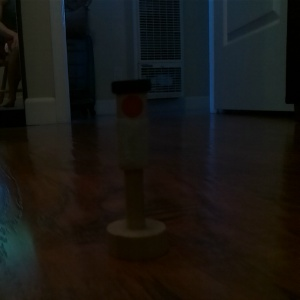traffic light red: (102, 77, 172, 262)
